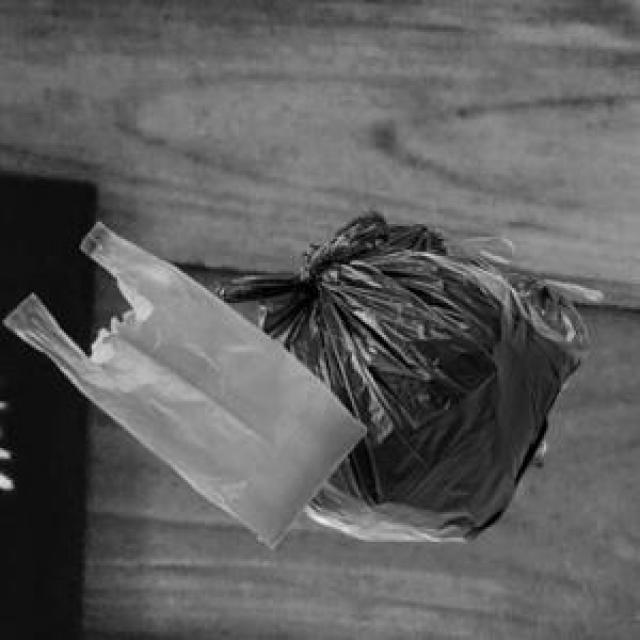miscellaneous trash: (212, 207, 576, 538), (346, 222, 597, 463)
